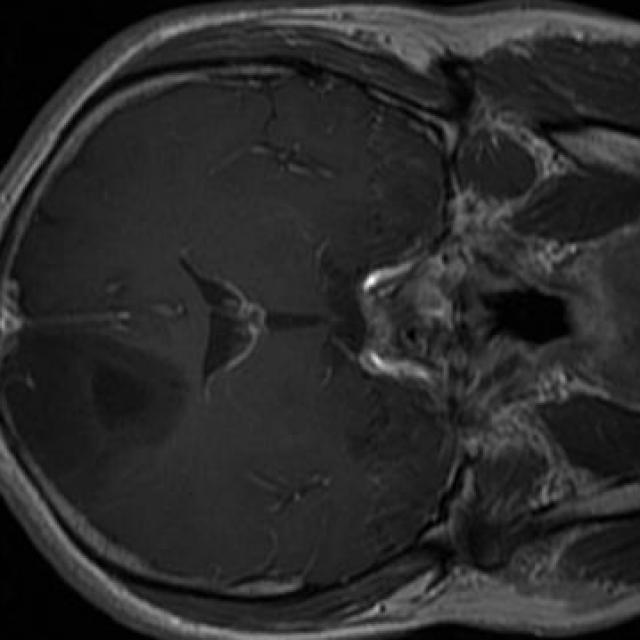glioma: (7, 332, 189, 478)
